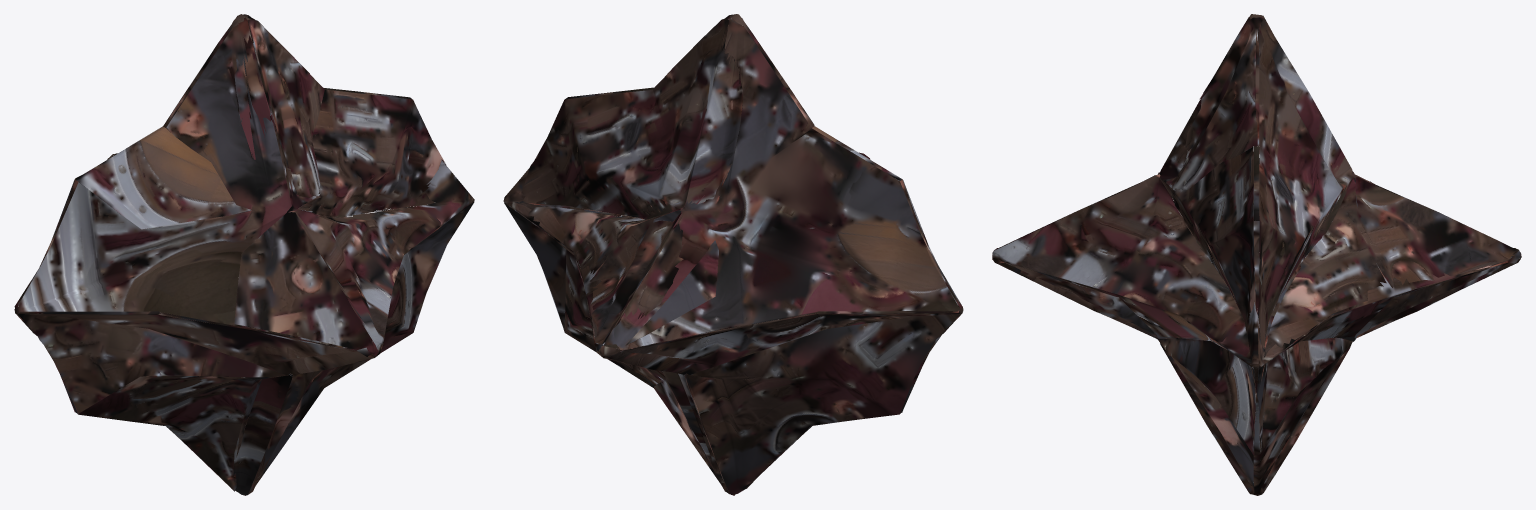
The model's file is Star.fbx.
3 renders of one model, left to right at view 1: azimuth 30°, elevation 25°; view 2: azimuth 150°, elevation 25°; view 3: azimuth 270°, elevation 25°, orthographic.
Parts seen in each view (by area): view 1: Star; view 2: Star; view 3: Star.
Part boxes in pixels (x1,y1,x2,y2): Star: [14, 14, 474, 495]; Star: [503, 14, 963, 495]; Star: [992, 14, 1521, 495].
Bounding box in the file's own units: 120 × 120 × 120.
